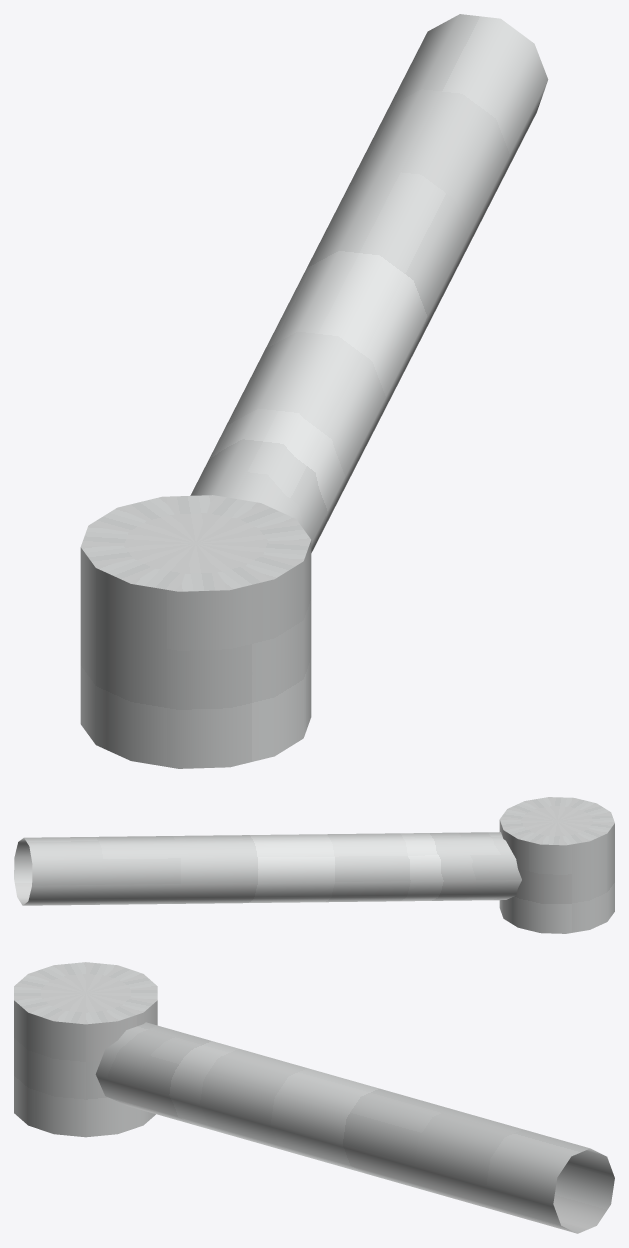
The model's file is trusssignalarm_diagonal8_c1_pedestal.obj.
3 renders of one model, top to bottom at view 1: azimuth 30°, elevation 25°; view 2: azimuth 150°, elevation 25°; view 3: azimuth 270°, elevation 25°, orthographic. The views are drawn at different scales.
Visible parts, largest first — view 1: trusssignalarm_diagonal8_c1_pedestal; view 2: trusssignalarm_diagonal8_c1_pedestal; view 3: trusssignalarm_diagonal8_c1_pedestal.
Part boxes in pixels (x1=…): trusssignalarm_diagonal8_c1_pedestal: x1=80, y1=14, x2=548, y2=768; trusssignalarm_diagonal8_c1_pedestal: x1=14, y1=797, x2=614, y2=933; trusssignalarm_diagonal8_c1_pedestal: x1=14, y1=962, x2=614, y2=1233.
Size of the model in its own units: 1.81 by 0.5413 by 1.81.
